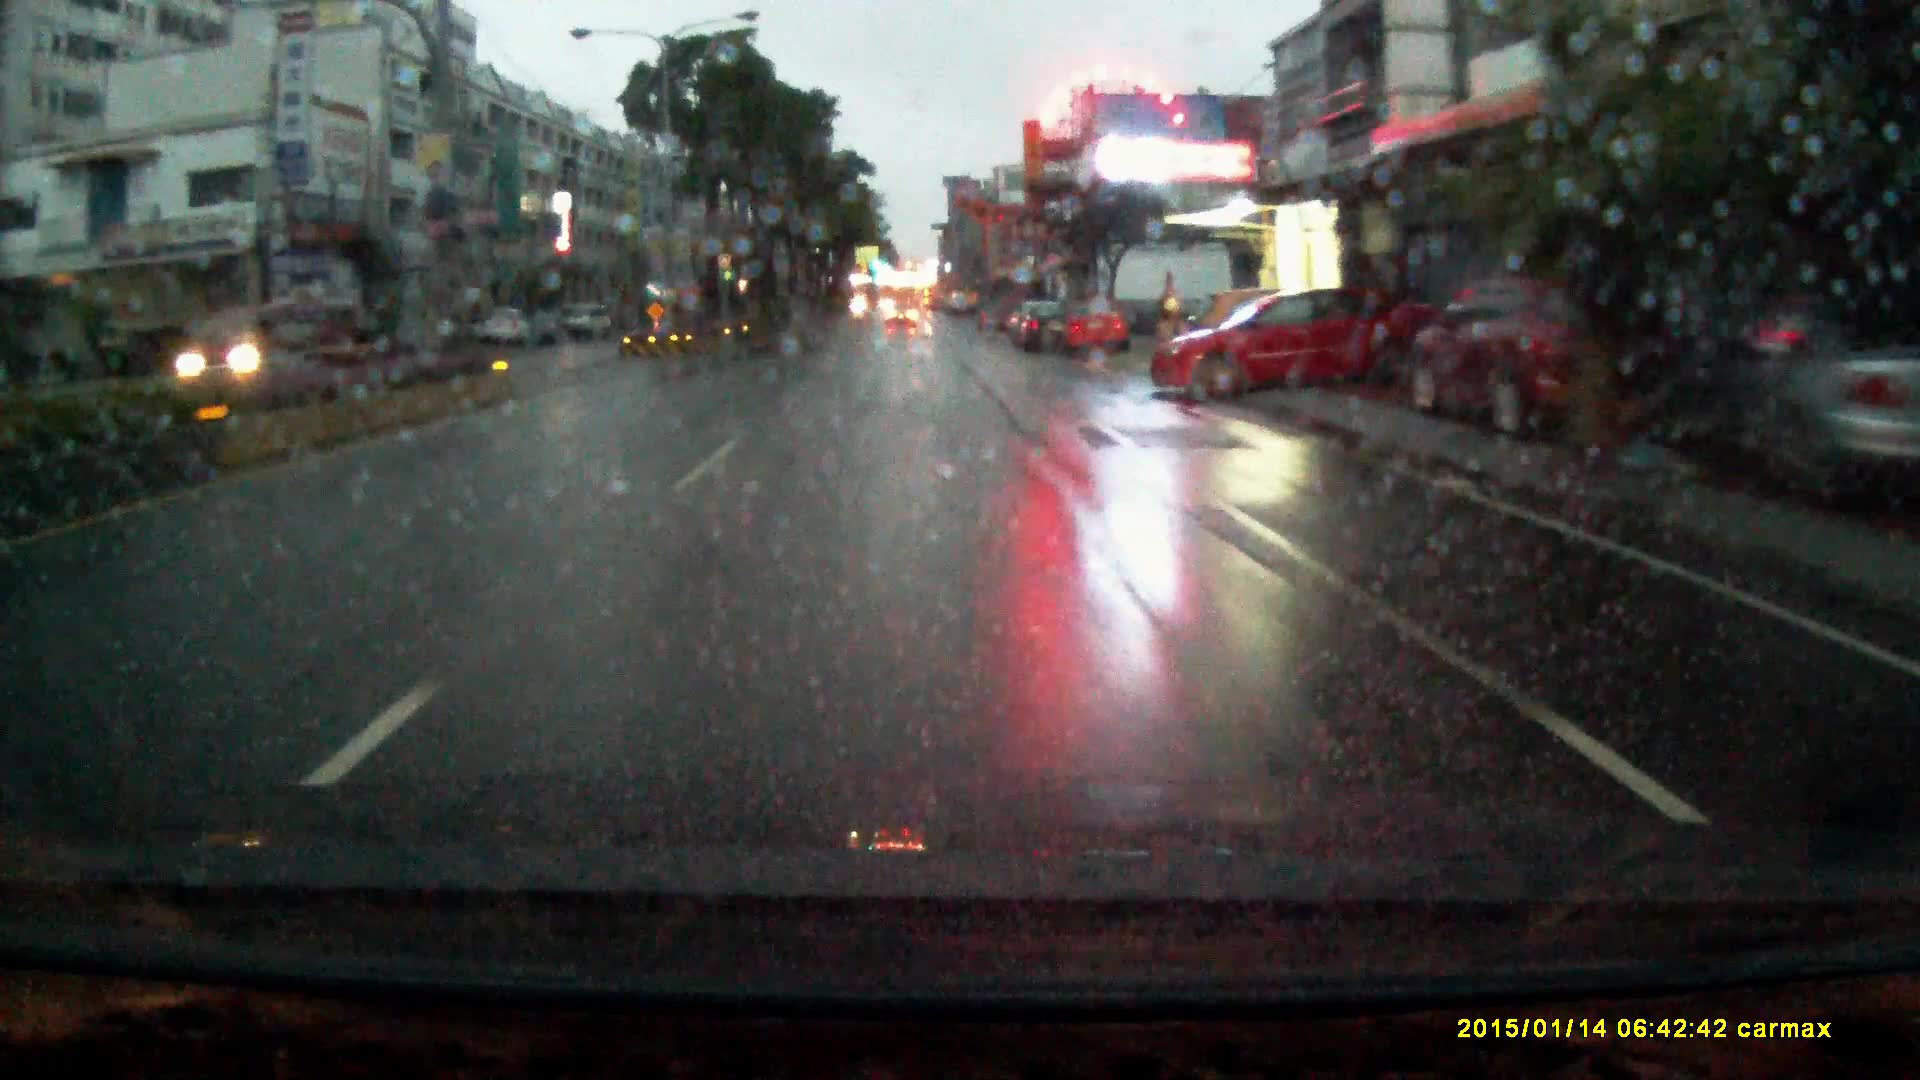vehicle: (1680, 294, 1920, 520), (1400, 276, 1692, 440), (1149, 293, 1435, 404), (169, 301, 327, 382), (1051, 305, 1134, 359), (1010, 303, 1073, 353), (560, 301, 615, 340), (483, 307, 531, 349), (887, 302, 918, 330)
